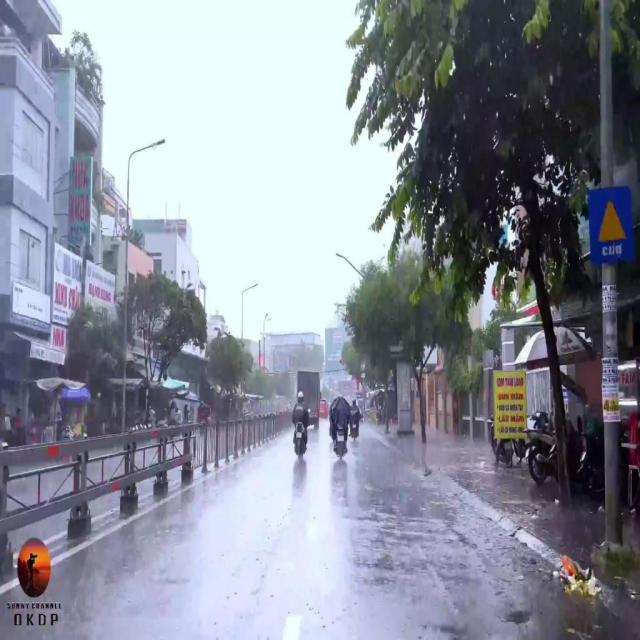cho: (588, 187, 634, 265)
